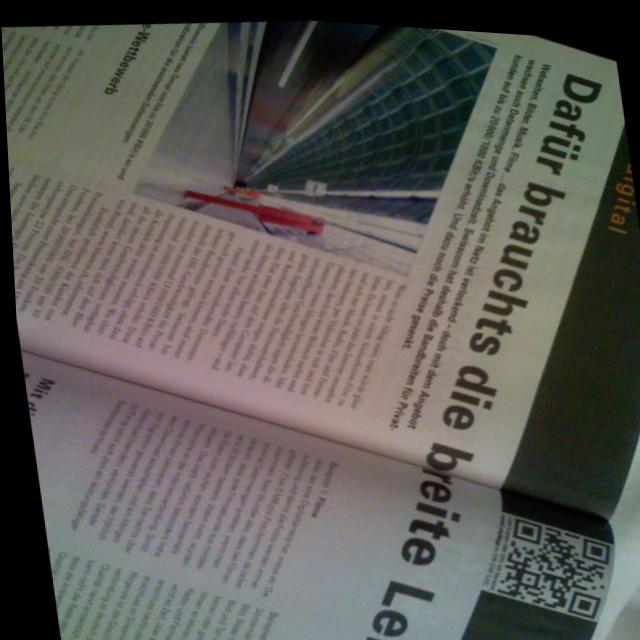qrcode: (481, 503, 614, 622)
